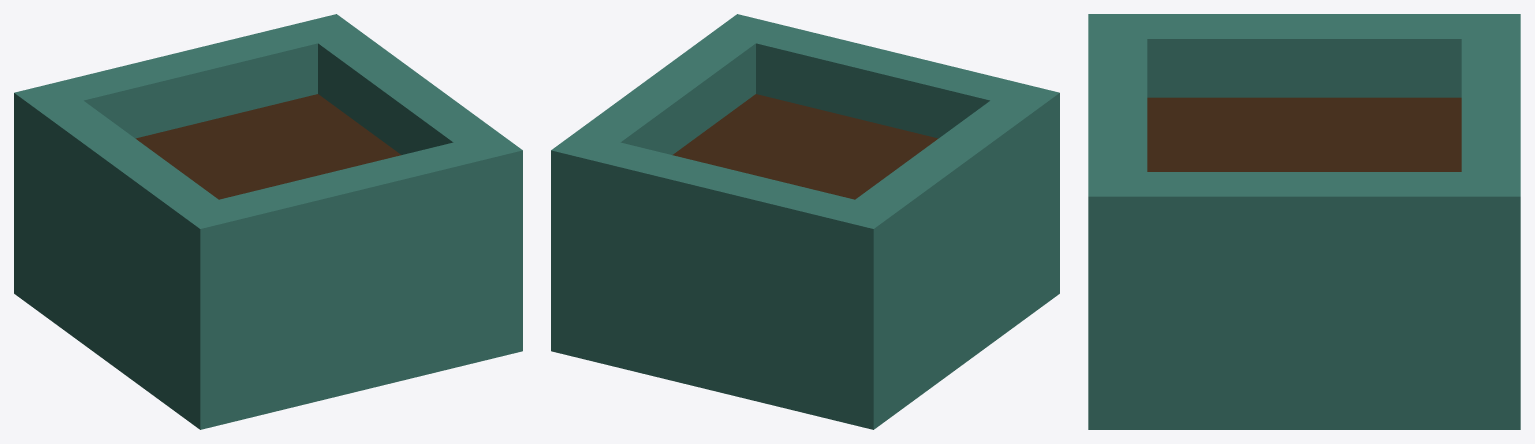
The model's file is catplant_pot.fbx.
3 views of the same model, side by side, from view 1: azimuth 30°, elevation 25°; view 2: azimuth 150°, elevation 25°; view 3: azimuth 270°, elevation 25° (orthographic). The views are drawn at different scales.
Parts seen in each view (by area): view 1: pCube1; view 2: pCube1; view 3: pCube1.
Part boxes in pixels (x1=…): pCube1: x1=14, y1=14, x2=522, y2=429; pCube1: x1=551, y1=14, x2=1059, y2=429; pCube1: x1=1088, y1=14, x2=1520, y2=429.
Size of the model in its own units: 1.68 by 1 by 1.68.
